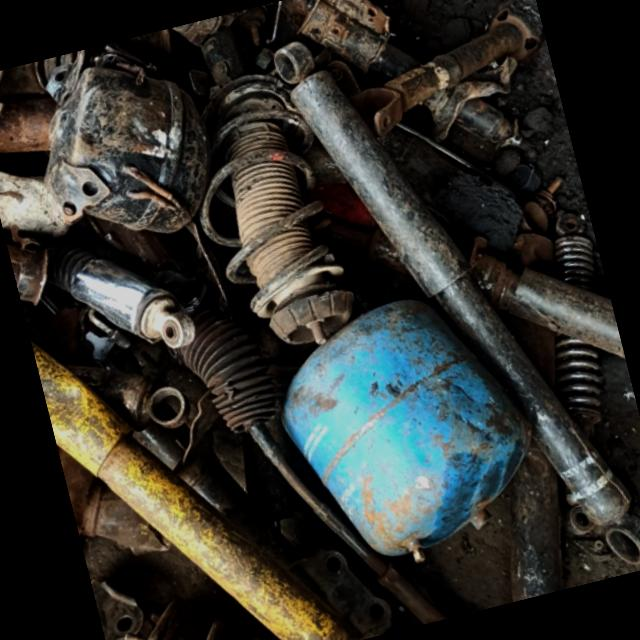Shock Absorber: (54, 244, 200, 353), (554, 226, 604, 446)
